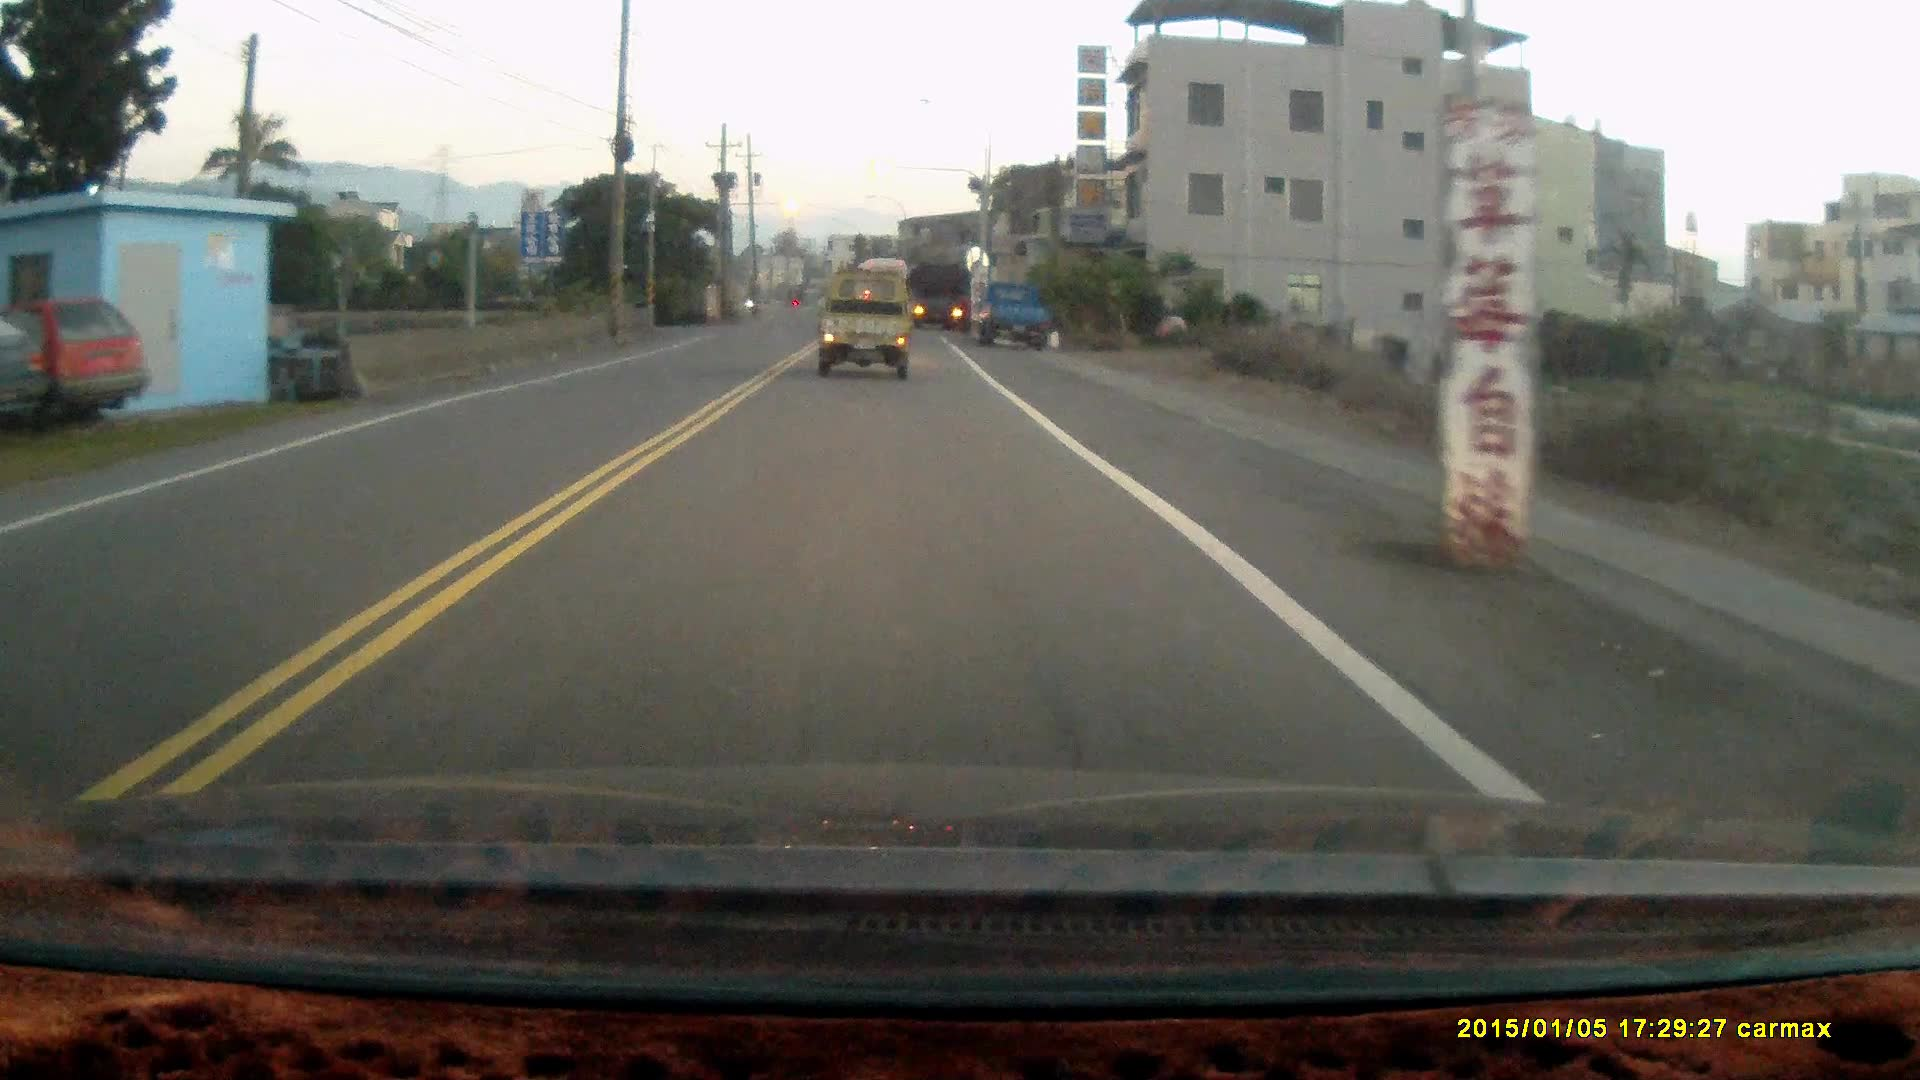vehicle: (4, 301, 148, 431), (815, 276, 916, 380), (1, 303, 51, 438), (971, 284, 1059, 356), (907, 262, 973, 328)
